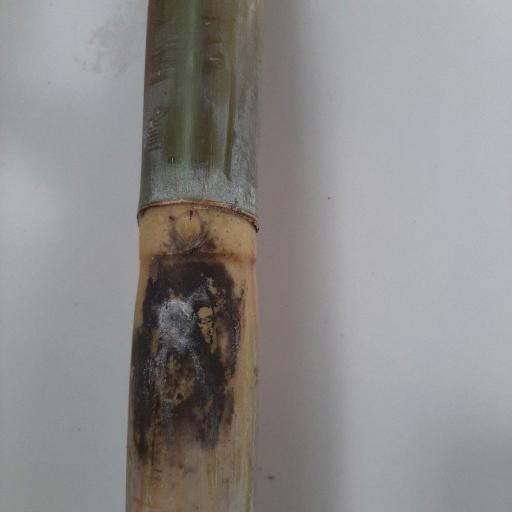Bud: (170, 210, 203, 252)
